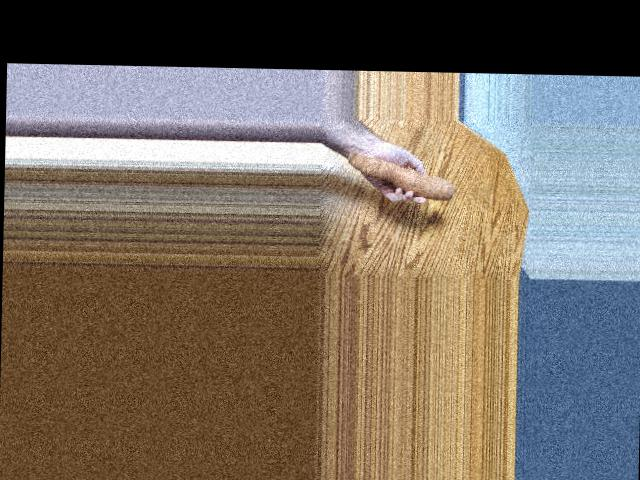sweet_potato: (359, 158, 471, 206)
